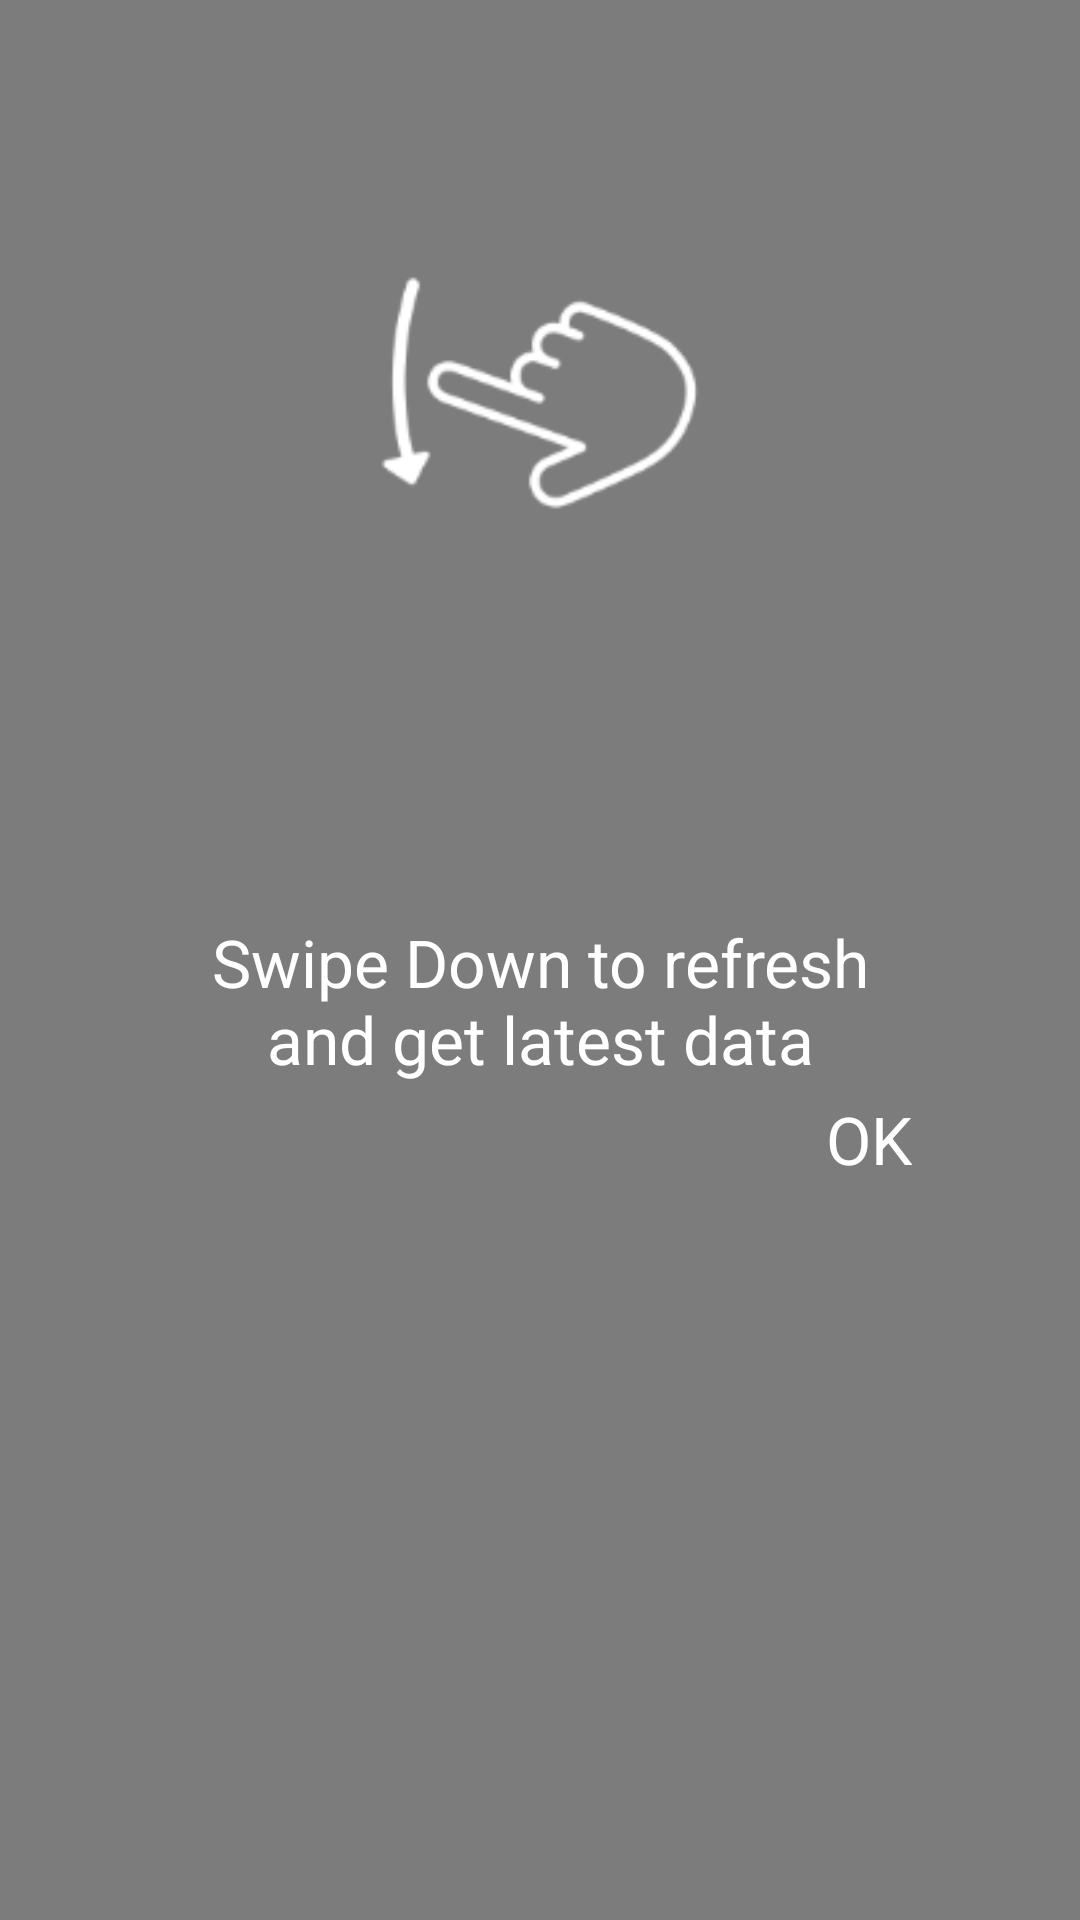

Icons on this 1080px×1920px Android screen, each with its box as [x1,y1,x2,y2]:
swipe down: [382,277,697,509]
